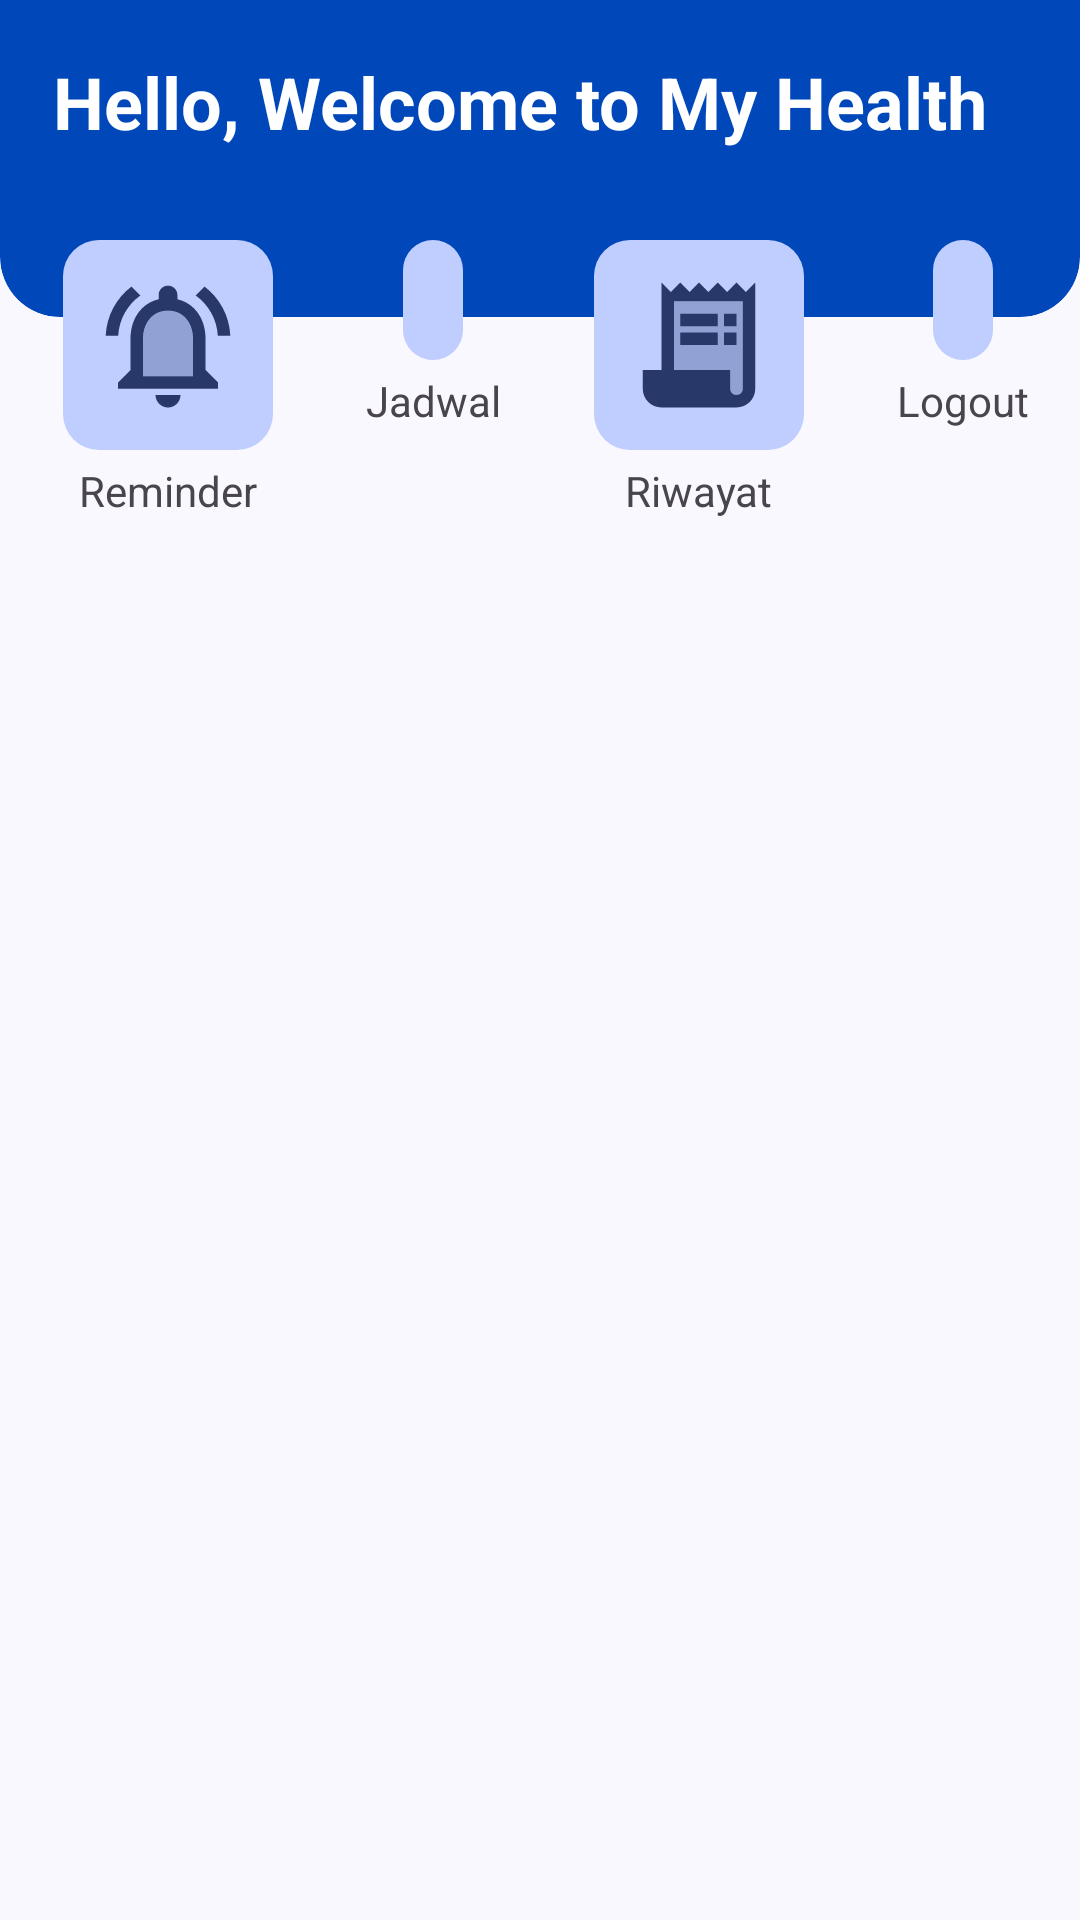

Icon click points for this 1080px x 1920px phone screenshot, format point (x, y):
notifications: point (168, 345)
receipt long: point (699, 345)
